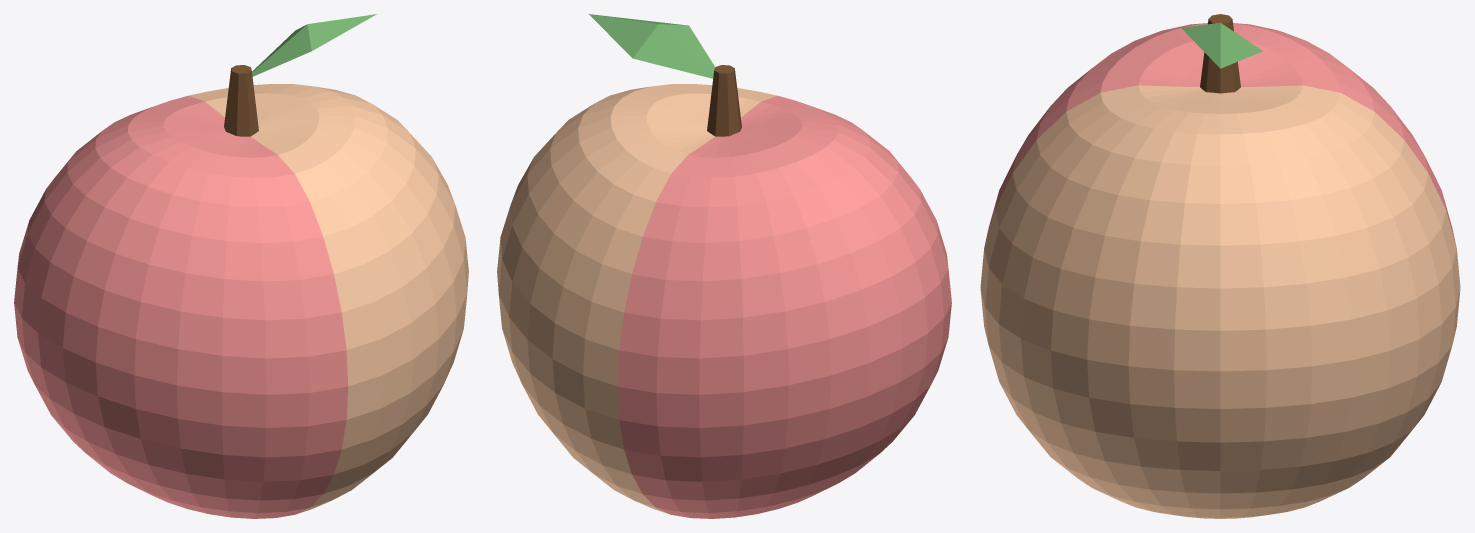
File: peach.glb
The picture shows the model from 3 angles, left to right: view 1: azimuth 30°, elevation 25°; view 2: azimuth 150°, elevation 25°; view 3: azimuth 270°, elevation 25°; orthographic projection. The views are drawn at different scales.
Visible parts, largest first — view 1: Literal peach fruit, Peach green leaf, Peach short stem; view 2: Literal peach fruit, Peach green leaf, Peach short stem; view 3: Literal peach fruit, Peach green leaf, Peach short stem.
Part boxes in pixels (x1,y1,x2,y2): Literal peach fruit: [14, 84, 468, 518]; Peach green leaf: [252, 14, 376, 76]; Peach short stem: [224, 65, 258, 136]; Literal peach fruit: [497, 84, 951, 518]; Peach green leaf: [589, 14, 714, 78]; Peach short stem: [707, 65, 741, 136]; Literal peach fruit: [980, 23, 1460, 518]; Peach green leaf: [1181, 22, 1262, 68]; Peach short stem: [1200, 14, 1240, 93].
Bounding box in the file's own units: 0.308 × 0.33 × 0.28.
